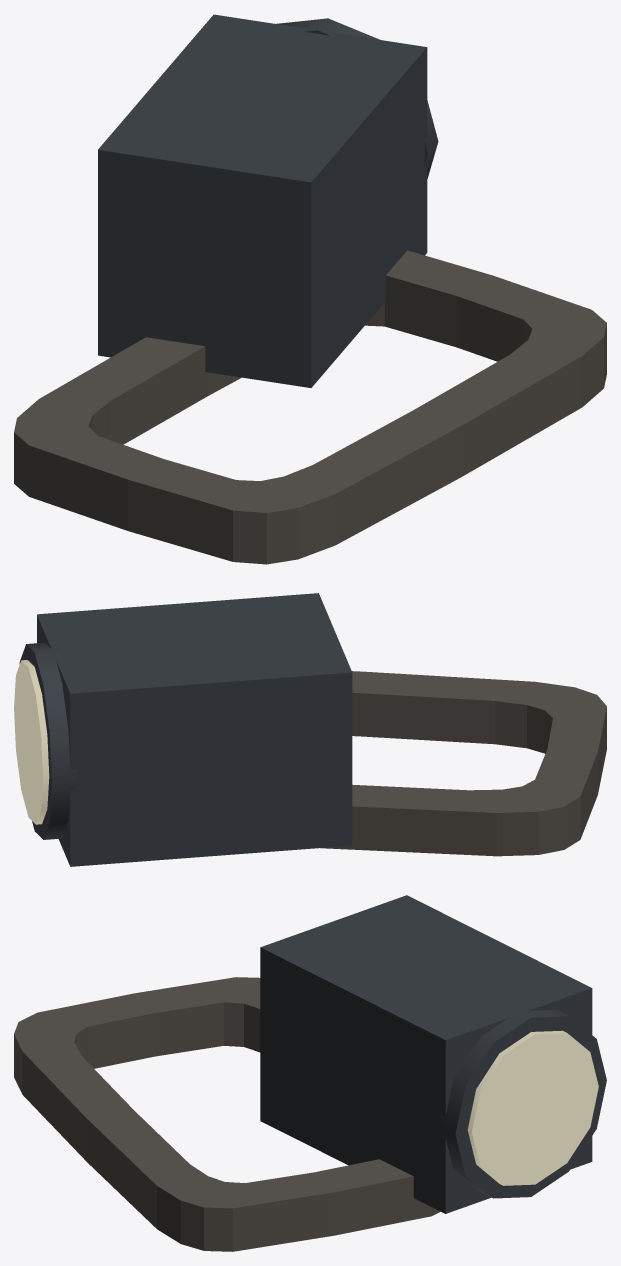
The model's file is headlamp.glb.
The picture shows the model from 3 angles, top to bottom: view 1: azimuth 30°, elevation 25°; view 2: azimuth 150°, elevation 25°; view 3: azimuth 270°, elevation 25°; orthographic projection. The views are drawn at different scales.
Visible parts, largest first — view 1: headlamp; view 2: headlamp; view 3: headlamp.
Boxes of the visible parts, x1=… form: headlamp: x1=14, y1=14, x2=606, y2=564; headlamp: x1=14, y1=593, x2=606, y2=866; headlamp: x1=14, y1=895, x2=606, y2=1251.
Size of the model in its own units: 0.1713 by 0.0685 by 0.1856.
